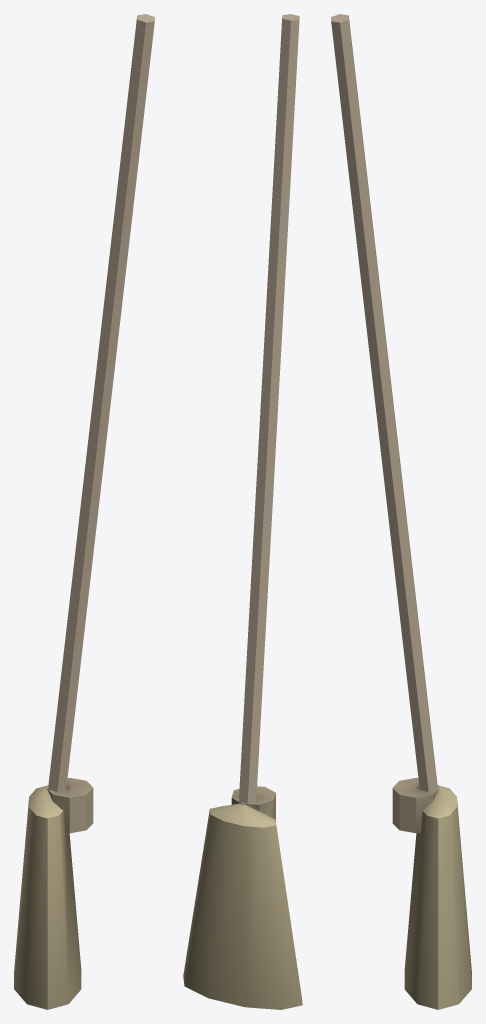
File: broom.glb
The picture shows the model from 3 angles, left to right: view 1: azimuth 90°, elevation 25°; view 2: azimuth 150°, elevation 25°; view 3: azimuth 270°, elevation 25°; orthographic projection. The views are drawn at different scales.
Visible parts, largest first — view 1: static; view 2: static; view 3: static.
Boxes of the visible parts, left/top/right/bottom form: static: left=14, top=14, right=154, bottom=1009; static: left=183, top=14, right=302, bottom=1009; static: left=331, top=14, right=471, bottom=1009.
Bounding box in the file's own units: 0.18 × 1.35 × 0.179.
